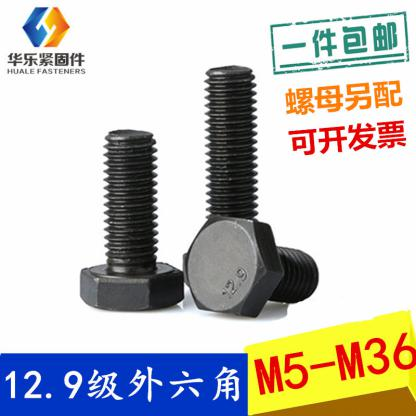FOD: (78, 126, 184, 319), (183, 214, 320, 321)
